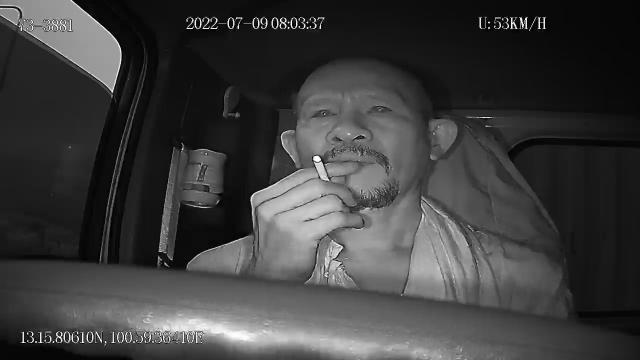SafeDriving: (359, 94, 399, 123), (302, 99, 342, 126)
Smoking: (311, 154, 331, 182)
